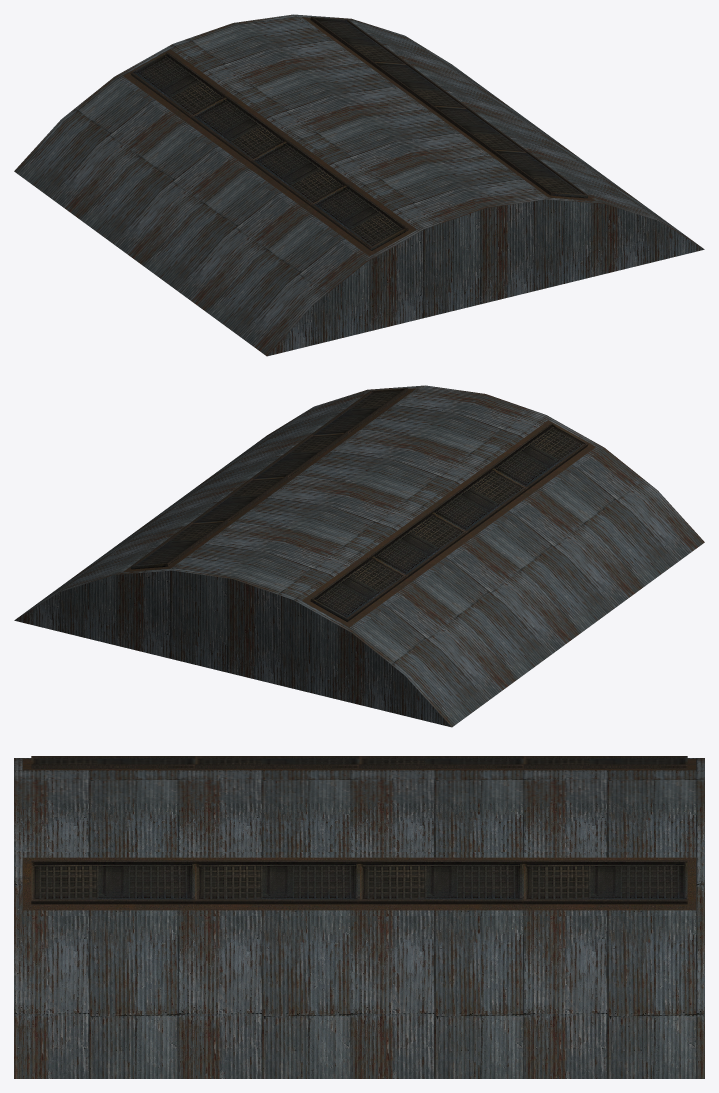
Rendered from warehouse_hs_1_roof_2.glb.
3 views of the same model, one above another, from view 1: azimuth 30°, elevation 25°; view 2: azimuth 150°, elevation 25°; view 3: azimuth 270°, elevation 25° (orthographic). The views are drawn at different scales.
Visible parts, largest first — view 1: warehouse_hs_1_roof_2; view 2: warehouse_hs_1_roof_2; view 3: warehouse_hs_1_roof_2.
Part boxes in pixels (x1,y1,x2,y2): warehouse_hs_1_roof_2: [14, 14, 704, 356]; warehouse_hs_1_roof_2: [14, 385, 704, 727]; warehouse_hs_1_roof_2: [14, 756, 704, 1078].
Size of the model in its own units: 8 by 1.66 by 8.
3 materials, 3 textured.
